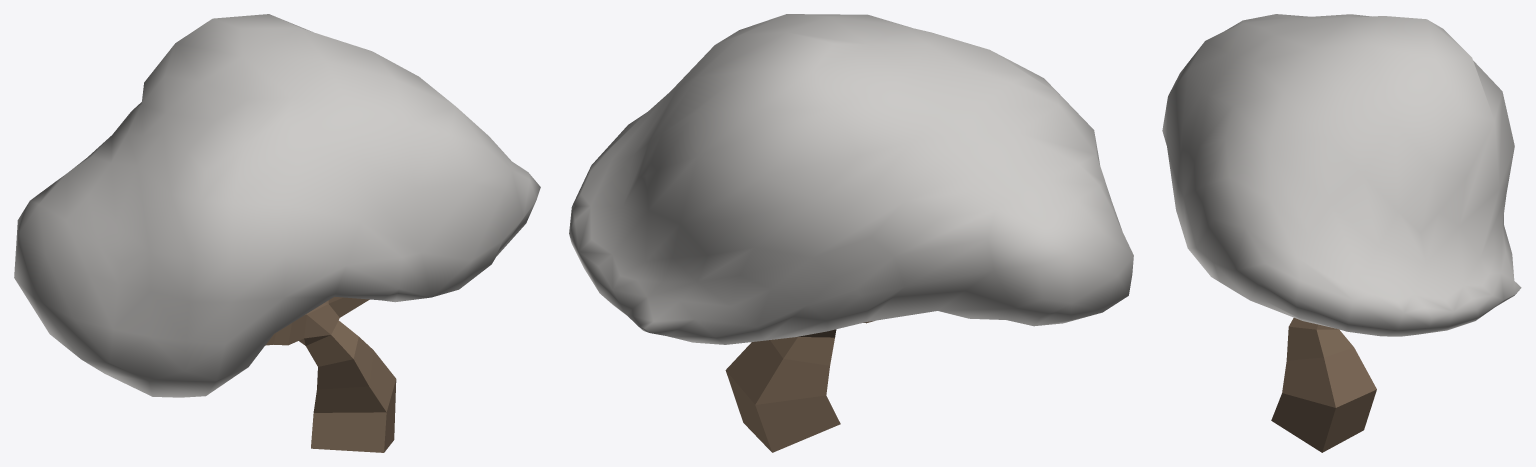
File: Bush_002.fbx
3 renders of one model, left to right at view 1: azimuth 30°, elevation 25°; view 2: azimuth 150°, elevation 25°; view 3: azimuth 270°, elevation 25°, orthographic. The views are drawn at different scales.
Parts seen in each view (by area): view 1: Bush.002; view 2: Bush.002; view 3: Bush.002.
Part boxes in pixels (x1,y1,x2,y2): Bush.002: [14, 14, 540, 452]; Bush.002: [569, 14, 1133, 452]; Bush.002: [1162, 14, 1521, 452].
Size of the model in its own units: 234 by 189 by 161.
